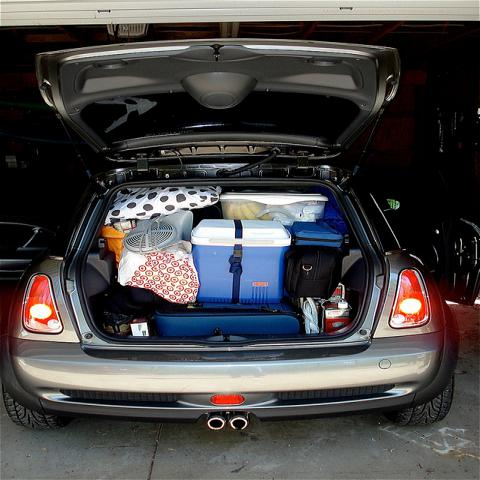car: (0, 35, 479, 432)
